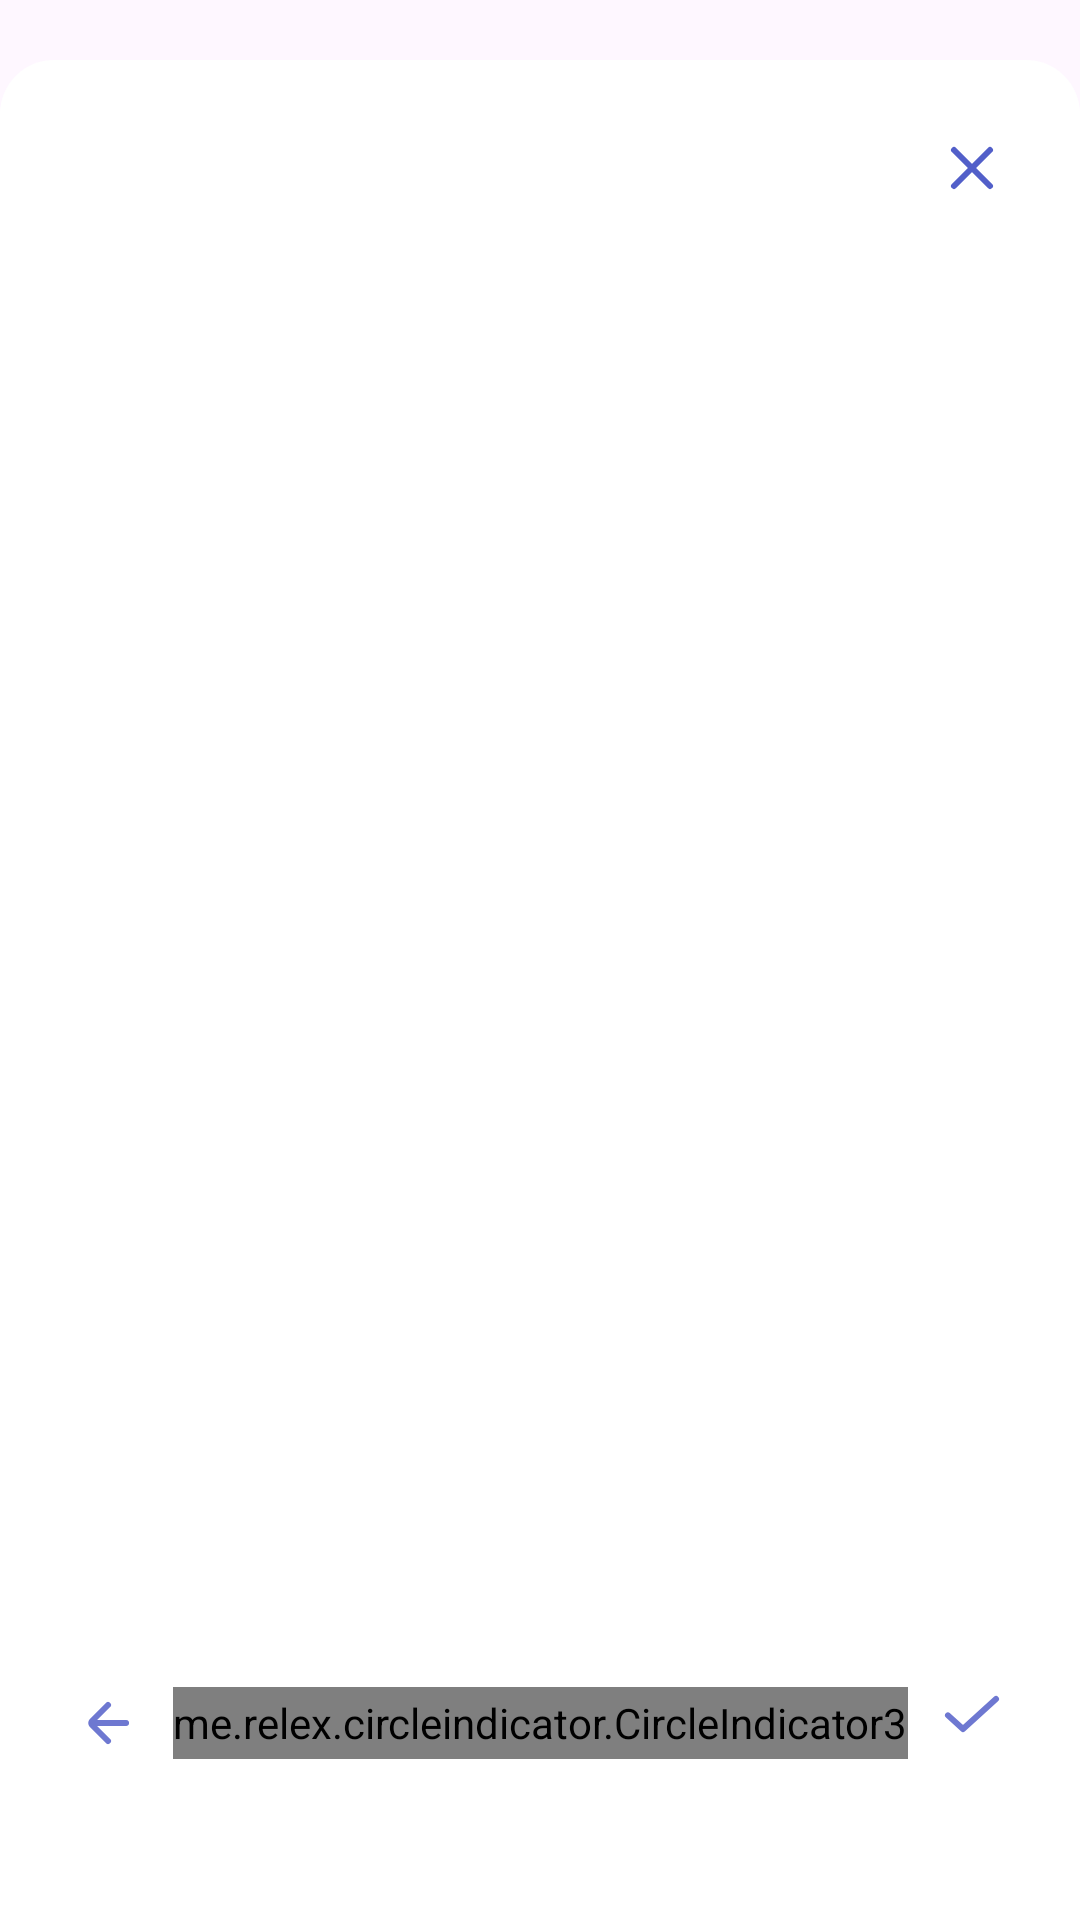

Named icons in this screenshot (1080px x 1920px) and their centers, [x,y]:
close: [972,167]
